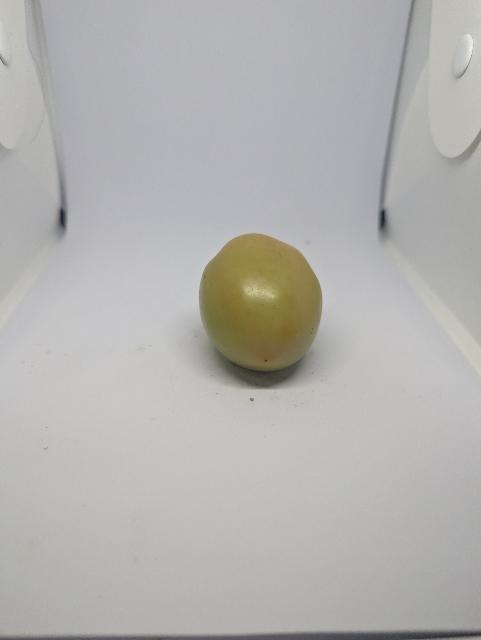breaker: (199, 230, 329, 376)
